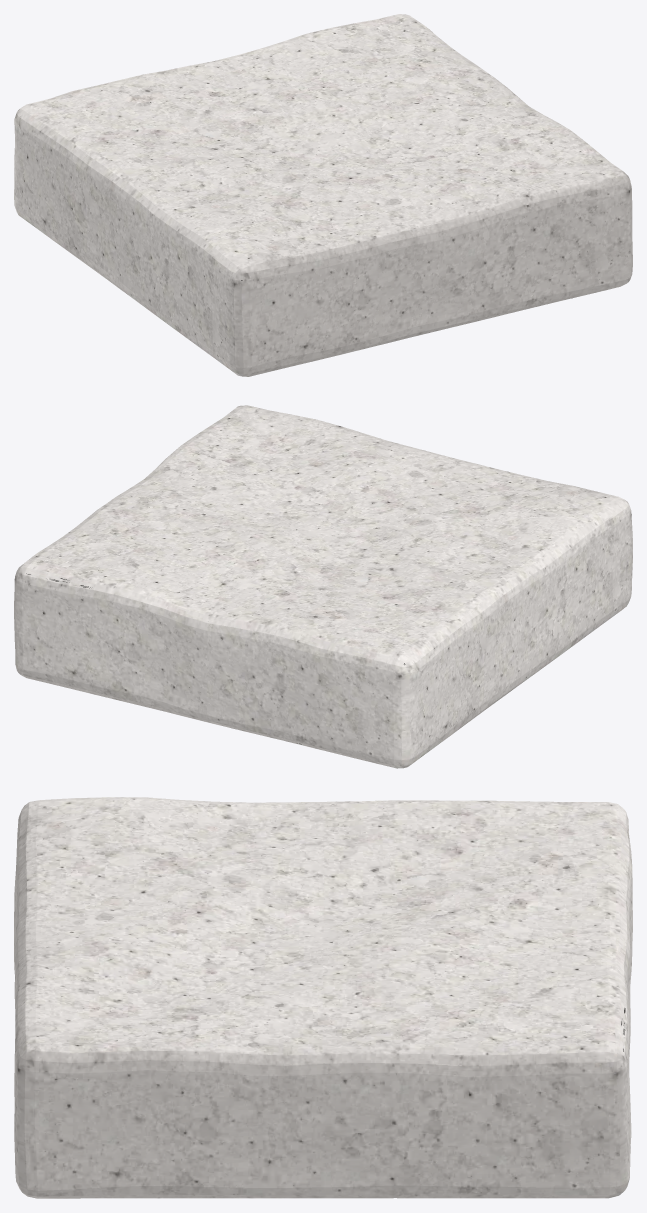
File: tak-flat-white.glb
The picture shows the model from 3 angles, top to bottom: view 1: azimuth 30°, elevation 25°; view 2: azimuth 150°, elevation 25°; view 3: azimuth 270°, elevation 25°; orthographic projection. The views are drawn at different scales.
Parts seen in each view (by area): view 1: tak-flat-white; view 2: tak-flat-white; view 3: tak-flat-white.
Part boxes in pixels (bbox=[...]): tak-flat-white: bbox=[14, 14, 632, 376]; tak-flat-white: bbox=[14, 405, 632, 768]; tak-flat-white: bbox=[14, 797, 632, 1198].
Bounding box in the file's own units: 0.0283 × 0.0079 × 0.0283.
1 material, 1 textured.
